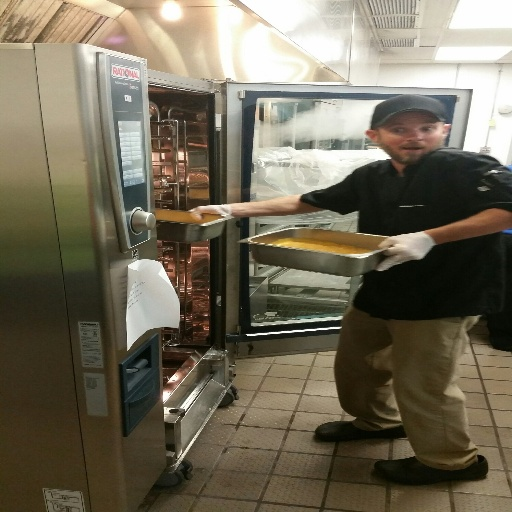hand: (373, 225, 443, 263), (187, 203, 239, 222)
